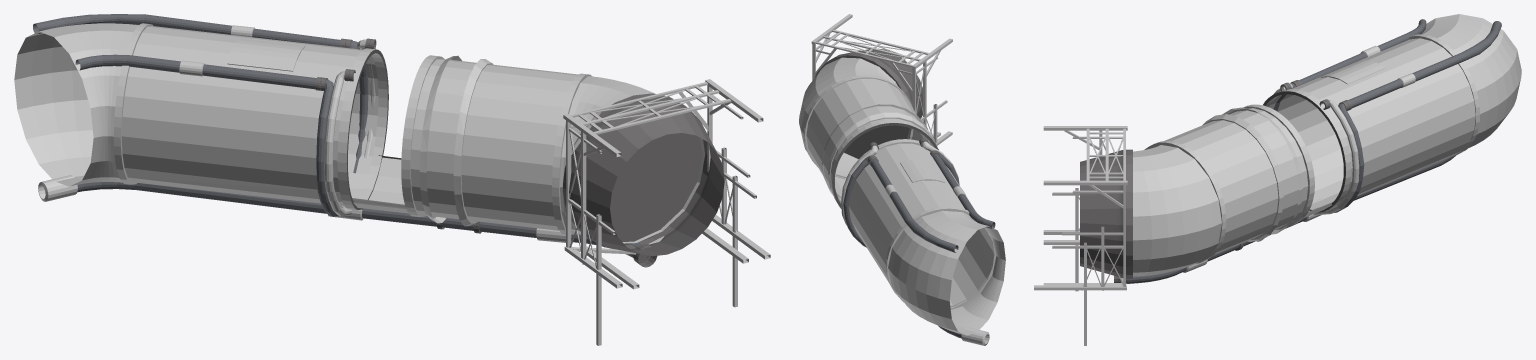
File: AreaJ_Pipe_Outside_Bb.fbx
3 views of the same model, side by side, from view 1: azimuth 30°, elevation 25°; view 2: azimuth 150°, elevation 25°; view 3: azimuth 270°, elevation 25° (orthographic). The views are drawn at different scales.
Parts seen in each view (by area): view 1: SM_ENV_AMVLLG02_AreaJ_Pipe_Outside_Bb.mo; view 2: SM_ENV_AMVLLG02_AreaJ_Pipe_Outside_Bb.mo; view 3: SM_ENV_AMVLLG02_AreaJ_Pipe_Outside_Bb.mo.
Part boxes in pixels (x1,y1,x2,y2): SM_ENV_AMVLLG02_AreaJ_Pipe_Outside_Bb.mo: (14, 14, 770, 345); SM_ENV_AMVLLG02_AreaJ_Pipe_Outside_Bb.mo: (799, 14, 1005, 345); SM_ENV_AMVLLG02_AreaJ_Pipe_Outside_Bb.mo: (1034, 14, 1521, 345).
Size of the model in its own units: 5612 by 2453 by 6551.
